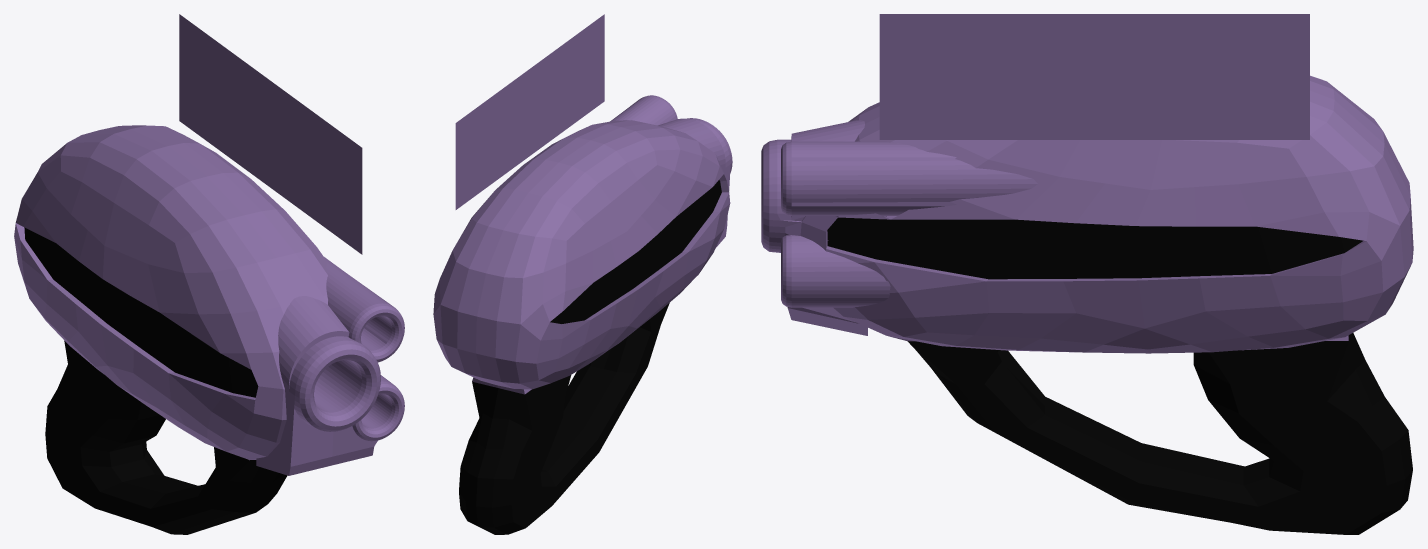
Rendered from multitool.fbx.
3 renders of one model, left to right at view 1: azimuth 30°, elevation 25°; view 2: azimuth 150°, elevation 25°; view 3: azimuth 270°, elevation 25°, orthographic. The views are drawn at different scales.
Parts seen in each view (by area): view 1: Torus; view 2: Torus; view 3: Torus.
Boxes of the visible parts, x1,y1,x2,y2 form: Torus: (14,14,404,534); Torus: (433,14,732,534); Torus: (761,14,1413,534).
Size of the model in its own units: 494 by 1349 by 1434.
